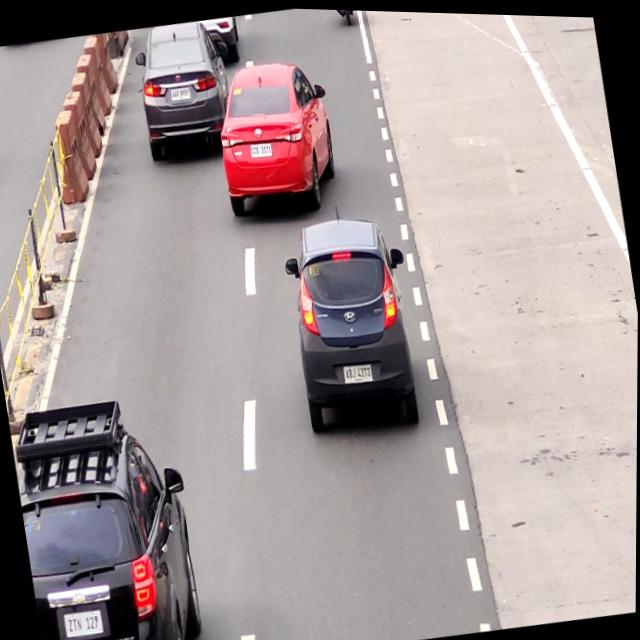Car: (7, 387, 212, 640), (283, 209, 424, 436), (213, 51, 342, 215), (132, 16, 232, 154)
License-Plate: (64, 610, 106, 640), (343, 362, 376, 385), (248, 139, 274, 160), (169, 83, 192, 104)
